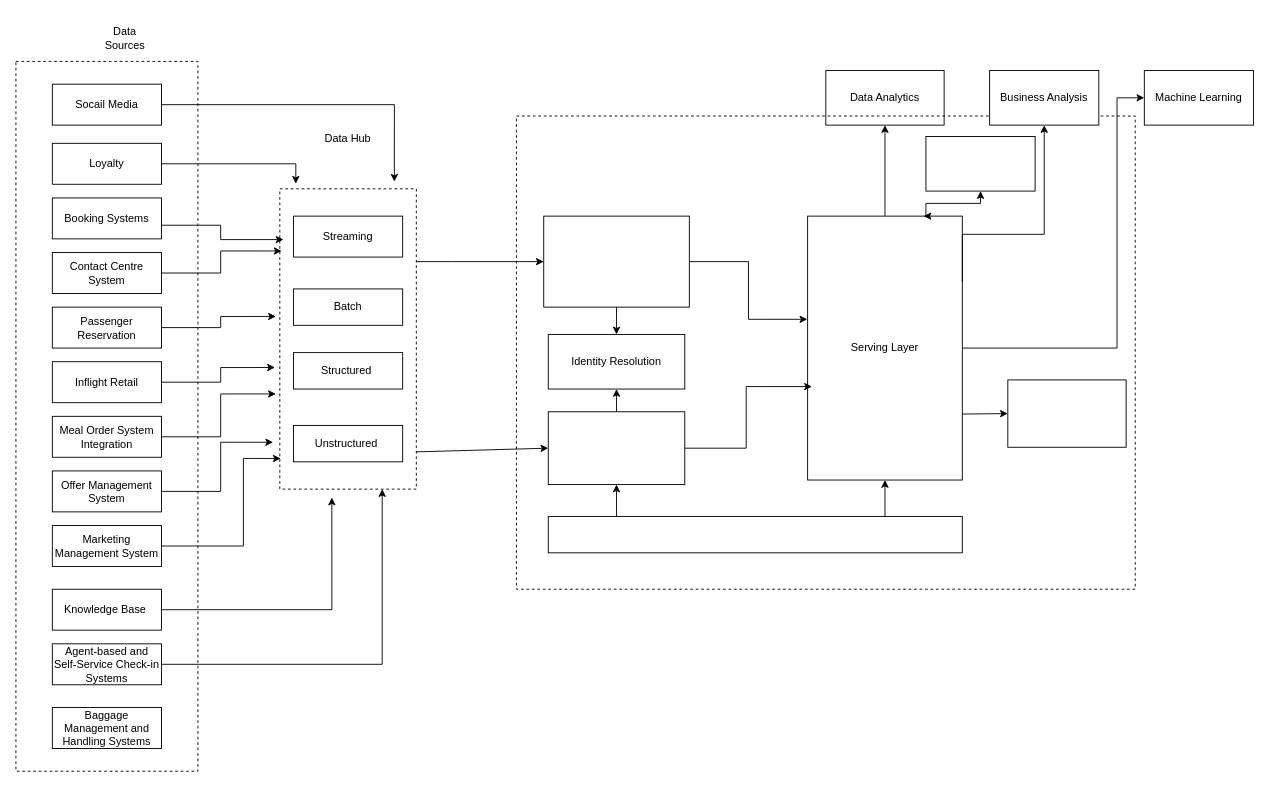
Some shapes in this 1269 by 787 pixel diagram are drawn without their labels. The shapes that lost their labels are listed below. From the top down, each one's box as (x1, y1, x2, y2) in pixels, then its label:
(925, 136, 1035, 191): Enriched Customer Profile
(543, 215, 689, 307): Speed Layer
(1007, 379, 1126, 447): Customer Privacy and concent Mgmt
(547, 411, 685, 485): Batch Layer
(547, 516, 962, 553): Data Governance
